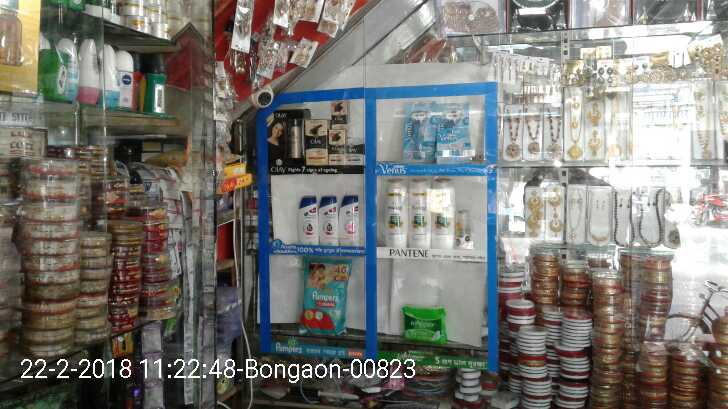venus: (433, 104, 470, 159), (408, 102, 433, 159)
